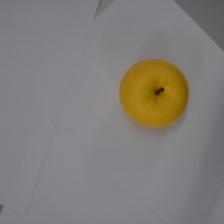yellow: (114, 51, 194, 131)
